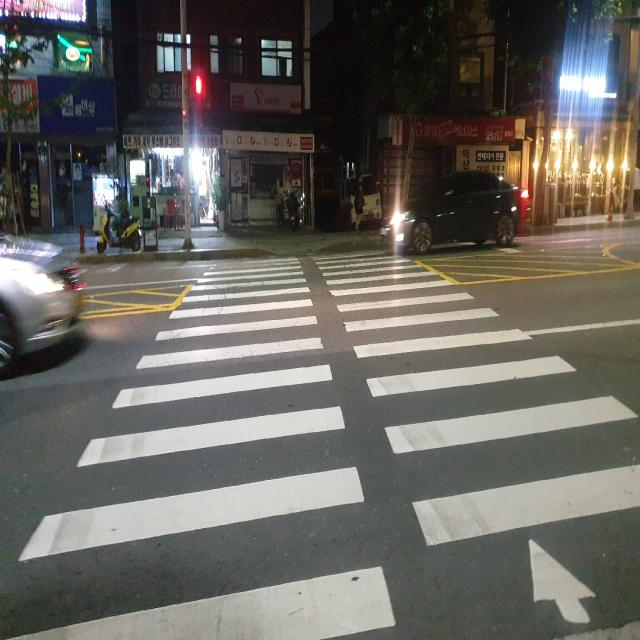빨간불: (189, 69, 207, 123)
횡단보도: (0, 255, 640, 639)
